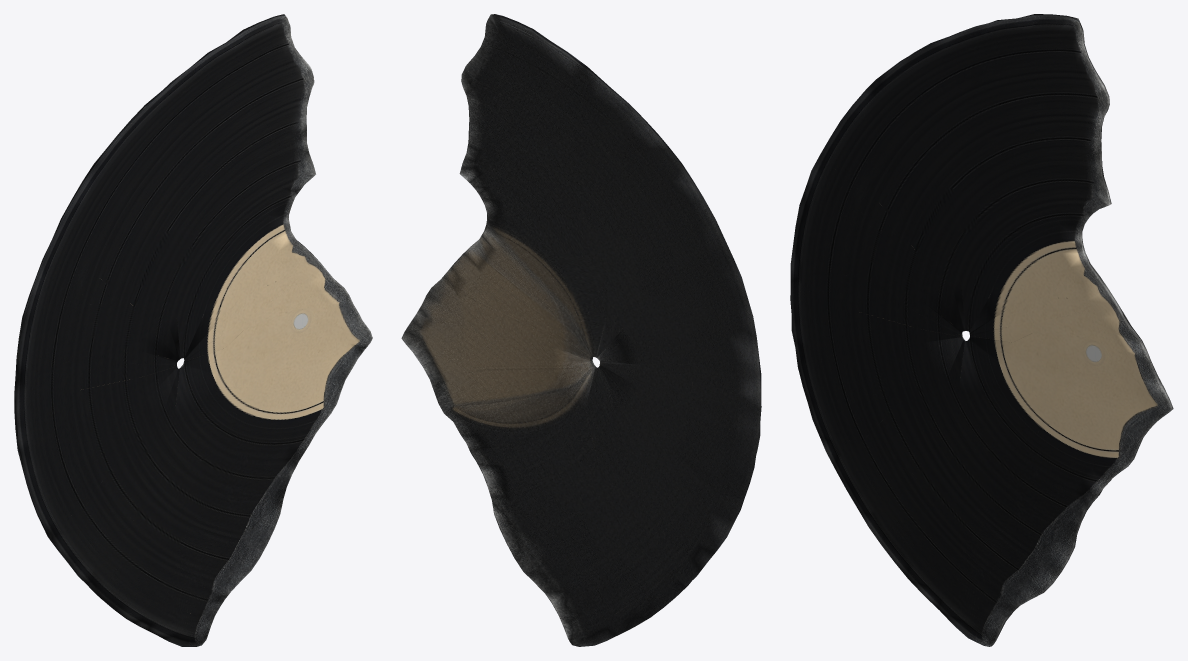
The model's file is Meshy_AI_Broken_Groove_0815130923_texture.fbx.
3 renders of one model, left to right at view 1: azimuth 30°, elevation 25°; view 2: azimuth 150°, elevation 25°; view 3: azimuth 330°, elevation 25°, orthographic. The views are drawn at different scales.
Parts seen in each view (by area): view 1: mesh_node; view 2: mesh_node; view 3: mesh_node.
Boxes of the visible parts, bbox=[...] form: mesh_node: bbox=[14, 14, 372, 646]; mesh_node: bbox=[401, 14, 761, 646]; mesh_node: bbox=[790, 14, 1173, 646].
Size of the model in its own units: 61.52 by 100 by 0.8576.
Materials: 1 (1 with a texture image).
